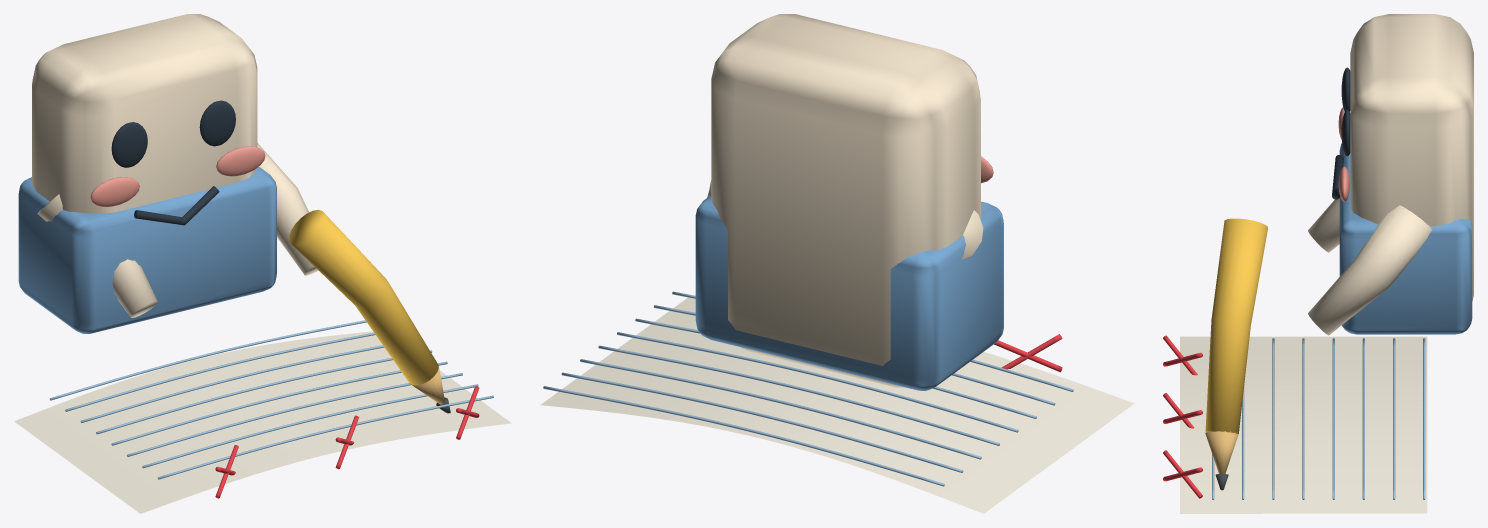
File: Q01_SelfWriting_Apology_Eraser.glb
The picture shows the model from 3 angles, left to right: view 1: azimuth 30°, elevation 25°; view 2: azimuth 150°, elevation 25°; view 3: azimuth 270°, elevation 25°; orthographic projection. The views are drawn at different scales.
Visible parts, largest first — view 1: Q01 real handwritten apology paper curved surface, Q01_ERASER_ACTOR | Natural cream pencil eraser soft rubber, Q01 actual school eraser cardboard blue wrapper waist, Q01 authentic cedar colored pencil yellow barrel, Q01_APOLOGY_PAPER_ACTOR | Pale blue notebook handwriting rul, Q01_ERASER_ACTOR | Eraser goofy charcoal pupils, Q01_ERASER_ACTOR | Embarrassed rubber blush coral, Q01_APOLOGY_PAPER_ACTOR | Teacher red crosses permanent mark; view 2: Q01_ERASER_ACTOR | Natural cream pencil eraser soft rubber, Q01 real handwritten apology paper curved surface, Q01 actual school eraser cardboard blue wrapper waist, Q01_APOLOGY_PAPER_ACTOR | Pale blue notebook handwriting rul, Q01_APOLOGY_PAPER_ACTOR | Teacher red crosses permanent mark; view 3: Q01 real handwritten apology paper curved surface, Q01_ERASER_ACTOR | Natural cream pencil eraser soft rubber, Q01 actual school eraser cardboard blue wrapper waist, Q01 authentic cedar colored pencil yellow barrel, Q01_APOLOGY_PAPER_ACTOR | Pale blue notebook handwriting rul, Q01_APOLOGY_PAPER_ACTOR | Teacher red crosses permanent mark, Q01_ERASER_ACTOR | Eraser goofy charcoal pupils, Q01 exposed sharpened wooden pencil tip, Q01_ERASER_ACTOR | Embarrassed rubber blush coral.
Boxes of the visible parts, x1=… form: Q01 real handwritten apology paper curved surface: x1=14, y1=331, x2=511, y2=513; Q01_ERASER_ACTOR | Natural cream pencil eraser soft rubber: x1=32, y1=14, x2=318, y2=317; Q01 actual school eraser cardboard blue wrapper waist: x1=18, y1=166, x2=276, y2=333; Q01 authentic cedar colored pencil yellow barrel: x1=289, y1=209, x2=438, y2=385; Q01_APOLOGY_PAPER_ACTOR | Pale blue notebook handwriting rul: x1=49, y1=320, x2=493, y2=479; Q01_ERASER_ACTOR | Eraser goofy charcoal pupils: x1=111, y1=100, x2=235, y2=225; Q01_ERASER_ACTOR | Embarrassed rubber blush coral: x1=90, y1=146, x2=265, y2=206; Q01_APOLOGY_PAPER_ACTOR | Teacher red crosses permanent mark: x1=215, y1=386, x2=479, y2=498; Q01_ERASER_ACTOR | Natural cream pencil eraser soft rubber: x1=707, y1=14, x2=983, y2=387; Q01 real handwritten apology paper curved surface: x1=540, y1=297, x2=1134, y2=513; Q01 actual school eraser cardboard blue wrapper waist: x1=695, y1=195, x2=1003, y2=390; Q01_APOLOGY_PAPER_ACTOR | Pale blue notebook handwriting rul: x1=543, y1=291, x2=1073, y2=486; Q01_APOLOGY_PAPER_ACTOR | Teacher red crosses permanent mark: x1=994, y1=334, x2=1062, y2=372; Q01 real handwritten apology paper curved surface: x1=1180, y1=336, x2=1427, y2=513; Q01_ERASER_ACTOR | Natural cream pencil eraser soft rubber: x1=1308, y1=14, x2=1473, y2=335; Q01 actual school eraser cardboard blue wrapper waist: x1=1339, y1=142, x2=1472, y2=334; Q01 authentic cedar colored pencil yellow barrel: x1=1205, y1=218, x2=1267, y2=433; Q01_APOLOGY_PAPER_ACTOR | Pale blue notebook handwriting rul: x1=1212, y1=338, x2=1425, y2=499; Q01_APOLOGY_PAPER_ACTOR | Teacher red crosses permanent mark: x1=1163, y1=335, x2=1202, y2=498; Q01_ERASER_ACTOR | Eraser goofy charcoal pupils: x1=1332, y1=67, x2=1350, y2=199; Q01 exposed sharpened wooden pencil tip: x1=1205, y1=431, x2=1238, y2=473; Q01_ERASER_ACTOR | Embarrassed rubber blush coral: x1=1338, y1=107, x2=1349, y2=201.
Size of the model in its own units: 1.39 by 1.27 by 1.03.
